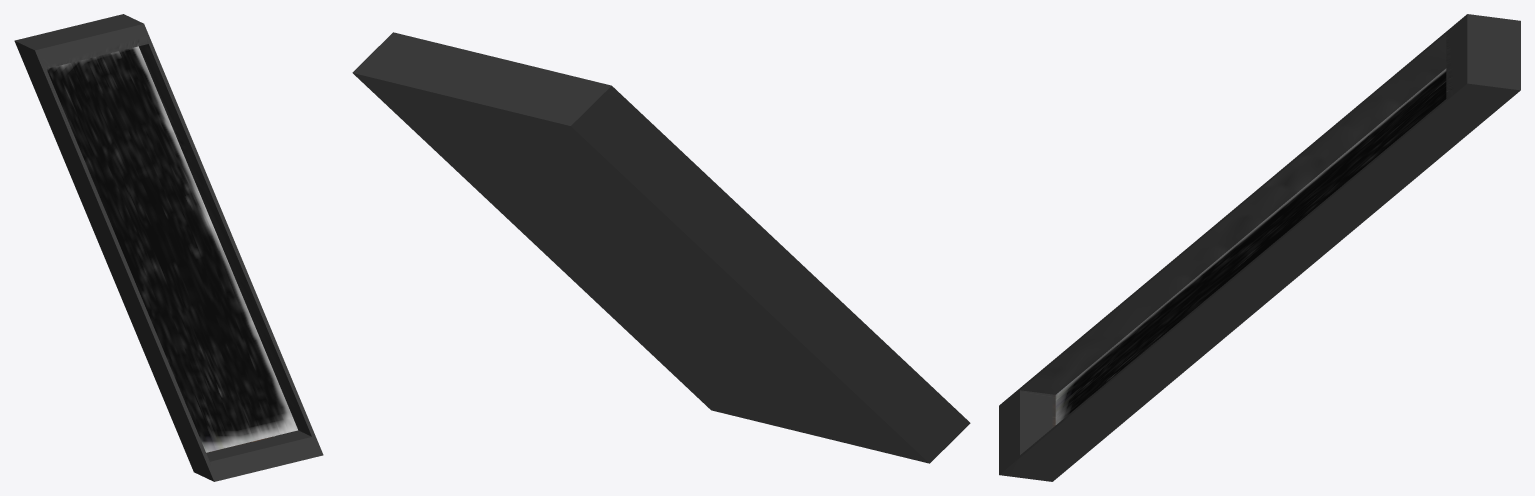
File: painting_0.glb
3 views of the same model, side by side, from view 1: azimuth 30°, elevation 25°; view 2: azimuth 150°, elevation 25°; view 3: azimuth 270°, elevation 25° (orthographic). The views are drawn at different scales.
Parts seen in each view (by area): view 1: painting_0; view 2: painting_0; view 3: painting_0.
Boxes of the visible parts, x1,y1,x2,y2 form: painting_0: [14, 14, 323, 481]; painting_0: [352, 32, 970, 463]; painting_0: [999, 14, 1520, 481].
Bounding box in the file's own units: 0.1758 × 0.4695 × 0.5572.
Materials: 1 (1 with a texture image).
